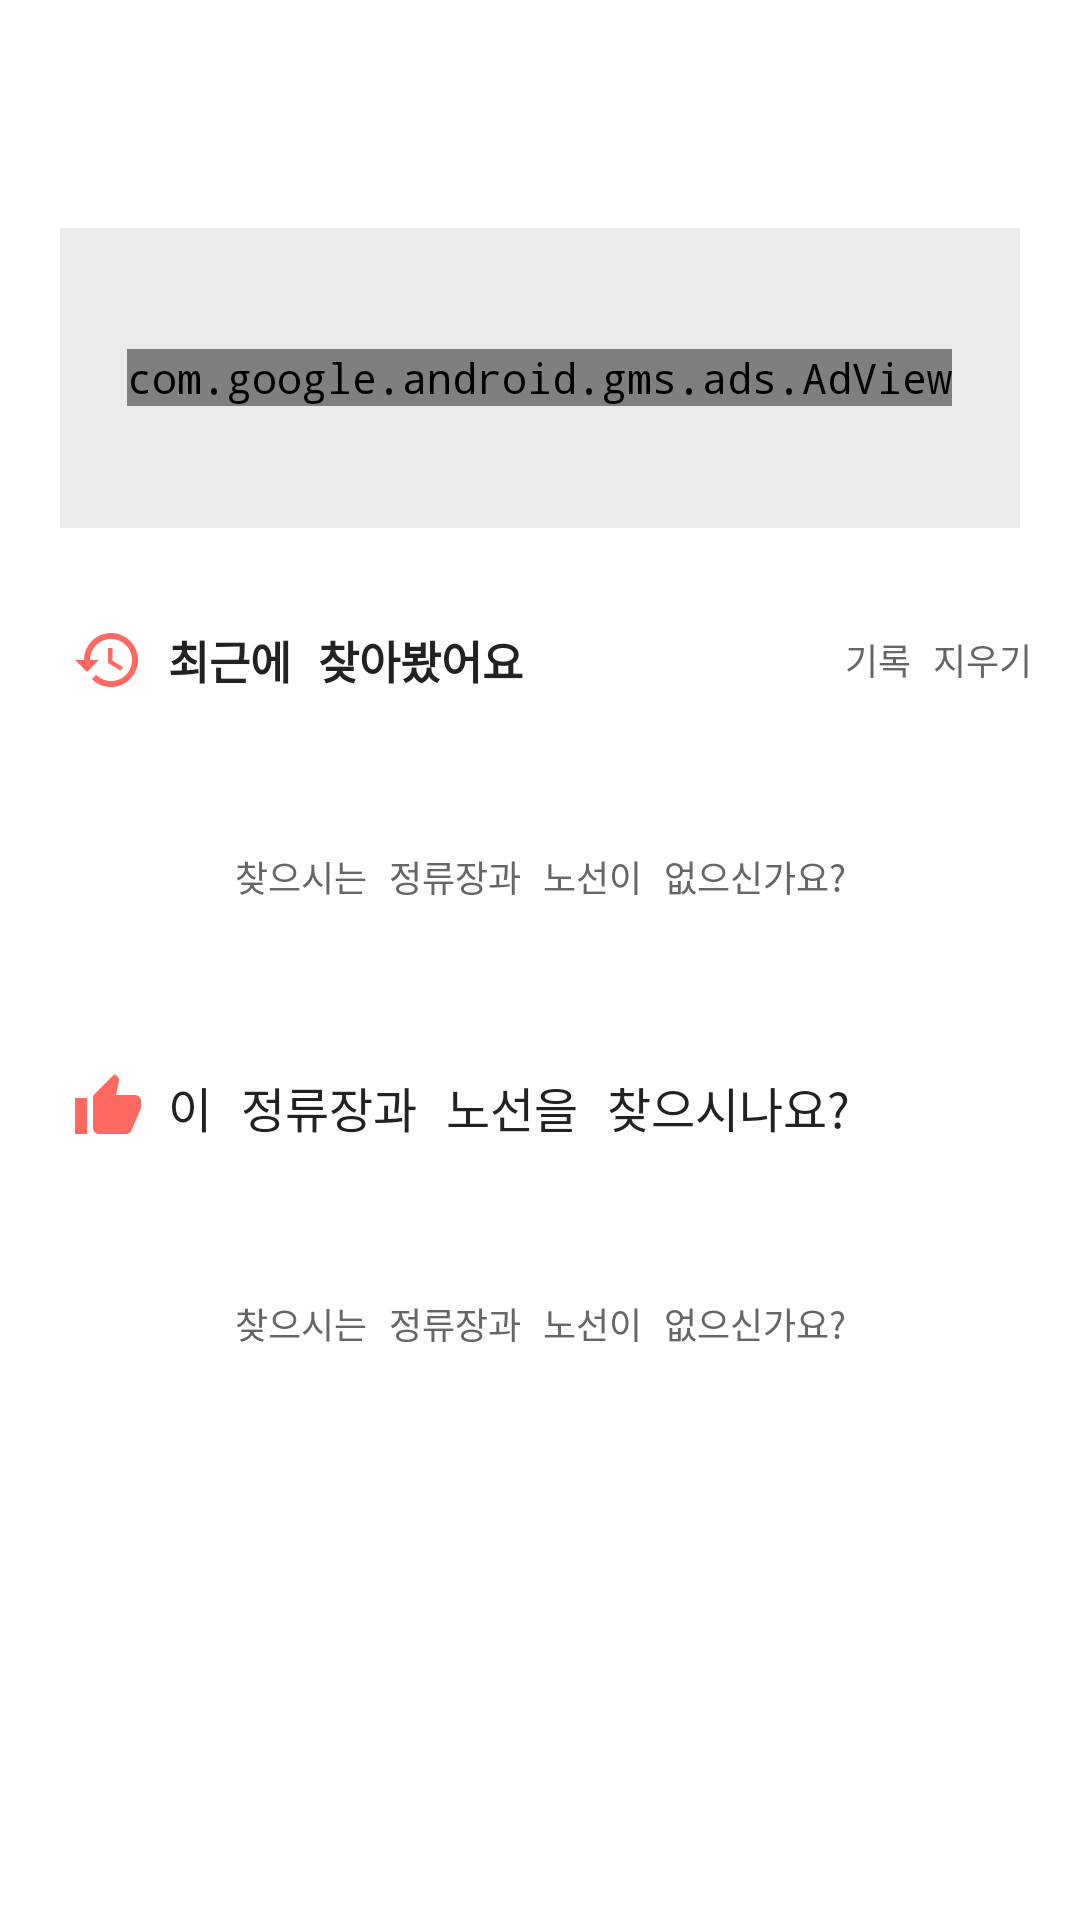

Icons on this 1080px×1920px Android screen, each with the point to tap as (x=x, y=y):
history: (x=106, y=660)
thumb up: (x=108, y=1104)
